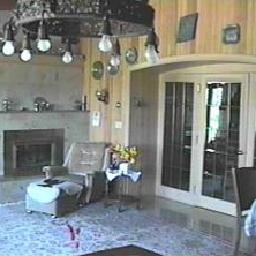Puerta: (163, 76, 243, 206)
